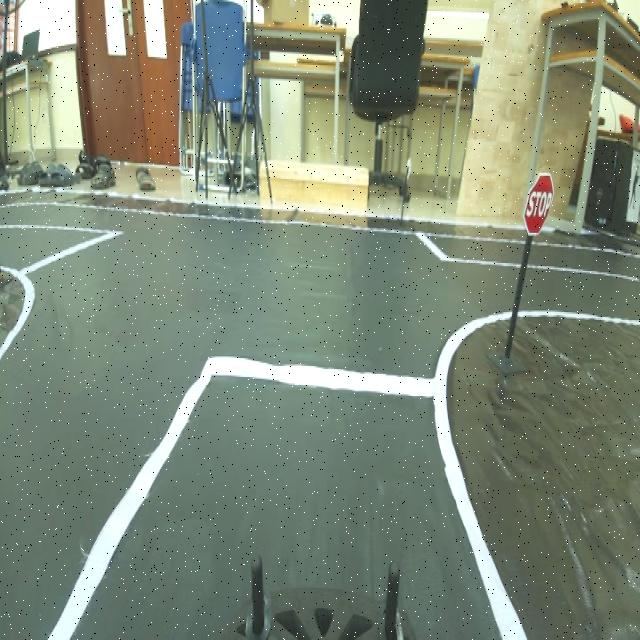stop: (514, 162, 562, 246)
